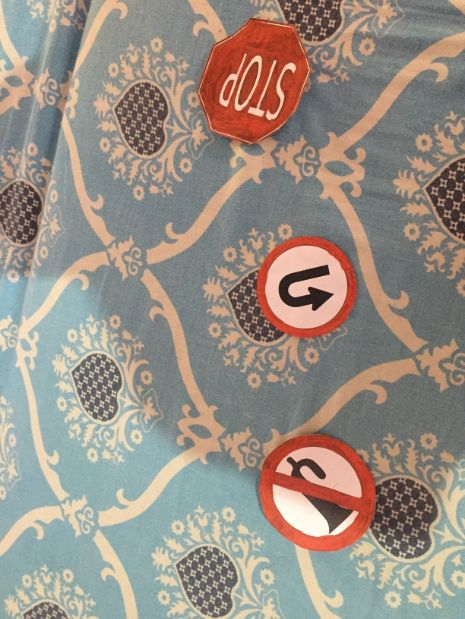no-horn: (258, 433, 380, 554)
stop: (198, 12, 312, 147)
u-turn: (254, 229, 365, 339)
